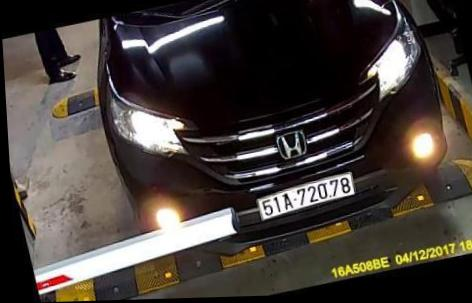License_Plate: (253, 172, 361, 224)
